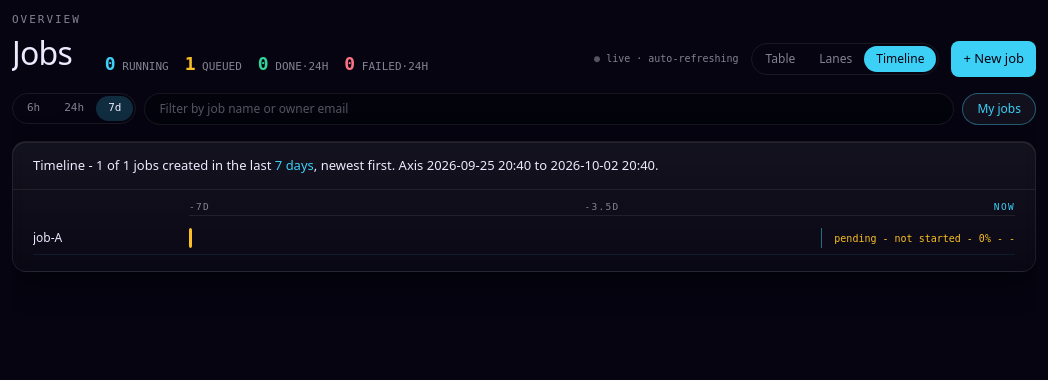
Test: a window change whose new key fails keeps the old rows and surfaces the failure
The image size is (1048, 380).
Expected: the link "job-A" is shown, [33,229,62,246]
Click the button "6h" at [34, 109], box [15,96,52,121]
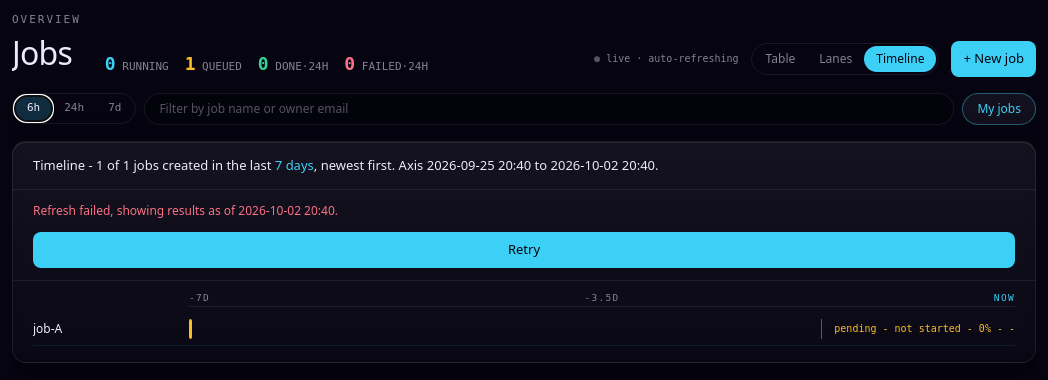
Expected: the link "job-A" is shown, [33,320,62,336]
Expected: the text "Refresh failed, showing results as of 2026-10-02 20:40." is shown, [33,202,338,220]
Expected: the element named "Jobs timeline" shows "Refresh failed, showing results as of", [33,202,238,219]
